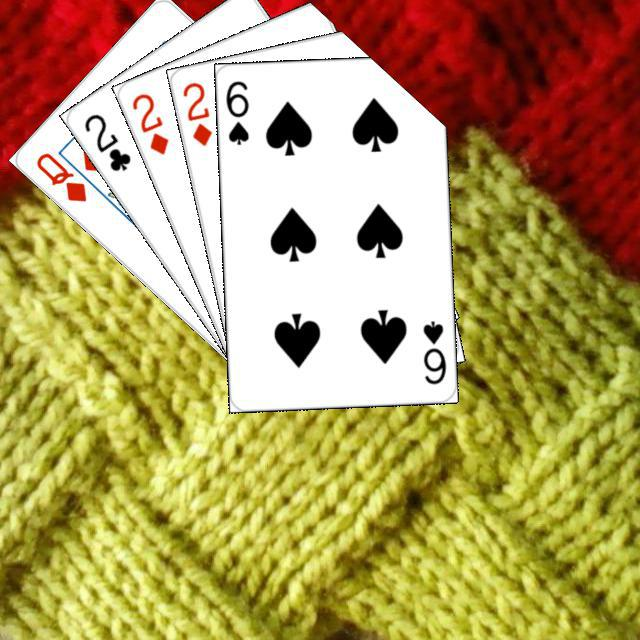2c: (79, 108, 133, 174)
2d: (127, 88, 171, 157), (177, 77, 214, 148)
6s: (221, 76, 251, 146), (418, 316, 448, 386)
Qd: (31, 147, 89, 204)
